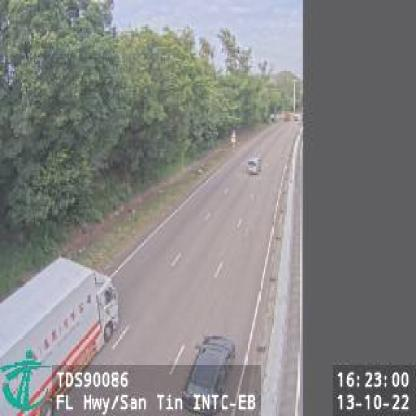Car: (178, 332, 236, 413), (244, 156, 261, 177)
Truck: (2, 254, 125, 406)
